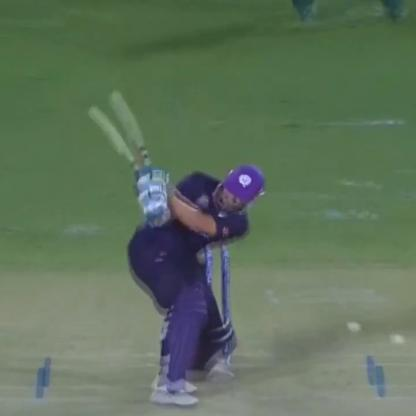bat: (90, 91, 172, 216), (344, 318, 367, 336), (391, 326, 405, 351)
pitch: (1, 341, 416, 415)
